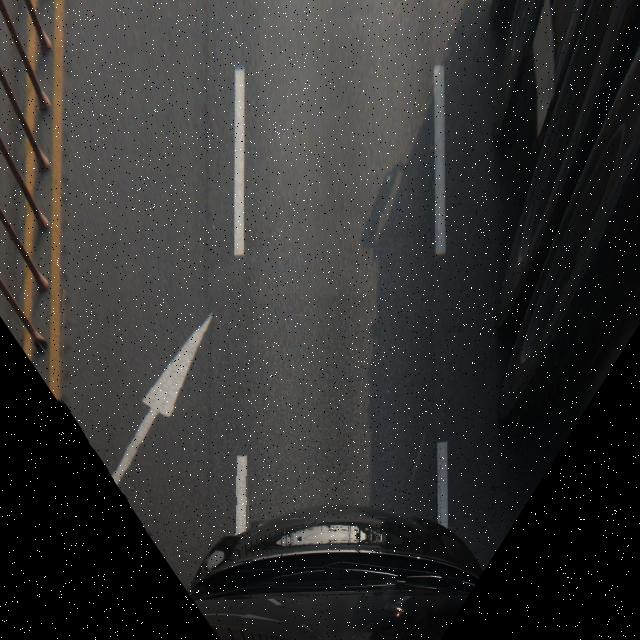chang_lane_right: (56, 290, 251, 536)
